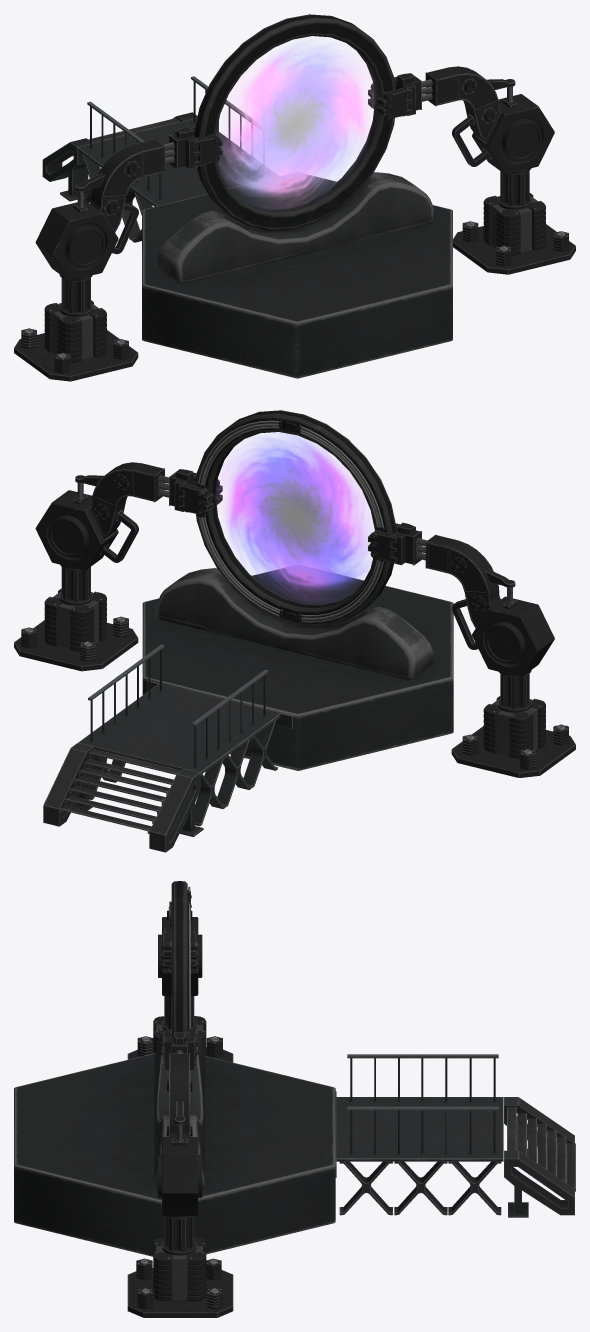
Rendered from portal.glb.
3 renders of one model, top to bottom at view 1: azimuth 30°, elevation 25°; view 2: azimuth 150°, elevation 25°; view 3: azimuth 270°, elevation 25°, orthographic. The views are drawn at different scales.
Visible parts, largest first — view 1: Object_13, Object_2, Object_19, Object_9, Object_6, Object_5, Object_7, Object_10, Object_12, Object_8, Object_4, Object_3 (+1 smaller); view 2: Object_13, Object_2, Object_5, Object_19, Object_9, Object_6, Object_7, Object_10, Object_4, Object_12, Object_3, Object_8 (+4 smaller); view 3: Object_13, Object_5, Object_7, Object_6, Object_3, Object_4, Object_19, Object_9, Object_10, Object_8, Object_12.
Part boxes in pixels (<box>): Object_13: <box>142,172,452,378</box>; Object_2: <box>219,38,373,208</box>; Object_19: <box>194,14,395,230</box>; Object_9: <box>21,134,222,358</box>; Object_6: <box>377,66,554,255</box>; Object_5: <box>42,81,269,206</box>; Object_7: <box>54,81,575,368</box>; Object_10: <box>14,127,194,381</box>; Object_12: <box>77,73,512,254</box>; Object_8: <box>75,79,568,266</box>; Object_4: <box>71,86,205,240</box>; Object_3: <box>80,76,252,242</box>; Object_13: <box>142,420,453,770</box>; Object_2: <box>221,432,374,601</box>; Object_5: <box>43,649,292,852</box>; Object_19: <box>195,410,396,626</box>; Object_9: <box>395,523,567,758</box>; Object_6: <box>35,462,222,646</box>; Object_7: <box>14,483,568,740</box>; Object_10: <box>368,530,575,777</box>; Object_4: <box>59,669,268,833</box>; Object_12: <box>77,469,512,649</box>; Object_3: <box>61,644,277,826</box>; Object_8: <box>21,475,515,741</box>; Object_13: <box>14,892,335,1256</box>; Object_5: <box>335,1058,574,1217</box>; Object_7: <box>127,1029,233,1317</box>; Object_6: <box>158,1029,214,1265</box>; Object_3: <box>339,1106,501,1215</box>; Object_4: <box>347,1054,575,1191</box>; Object_19: <box>171,881,190,1037</box>; Object_9: <box>144,901,222,1053</box>; Object_10: <box>127,907,233,1062</box>; Object_8: <box>136,1077,222,1309</box>; Object_12: <box>164,927,194,1140</box>.
Bounding box in the file's own units: 30.1 × 15.49 × 26.92.
Materials: 4 (4 with a texture image).
